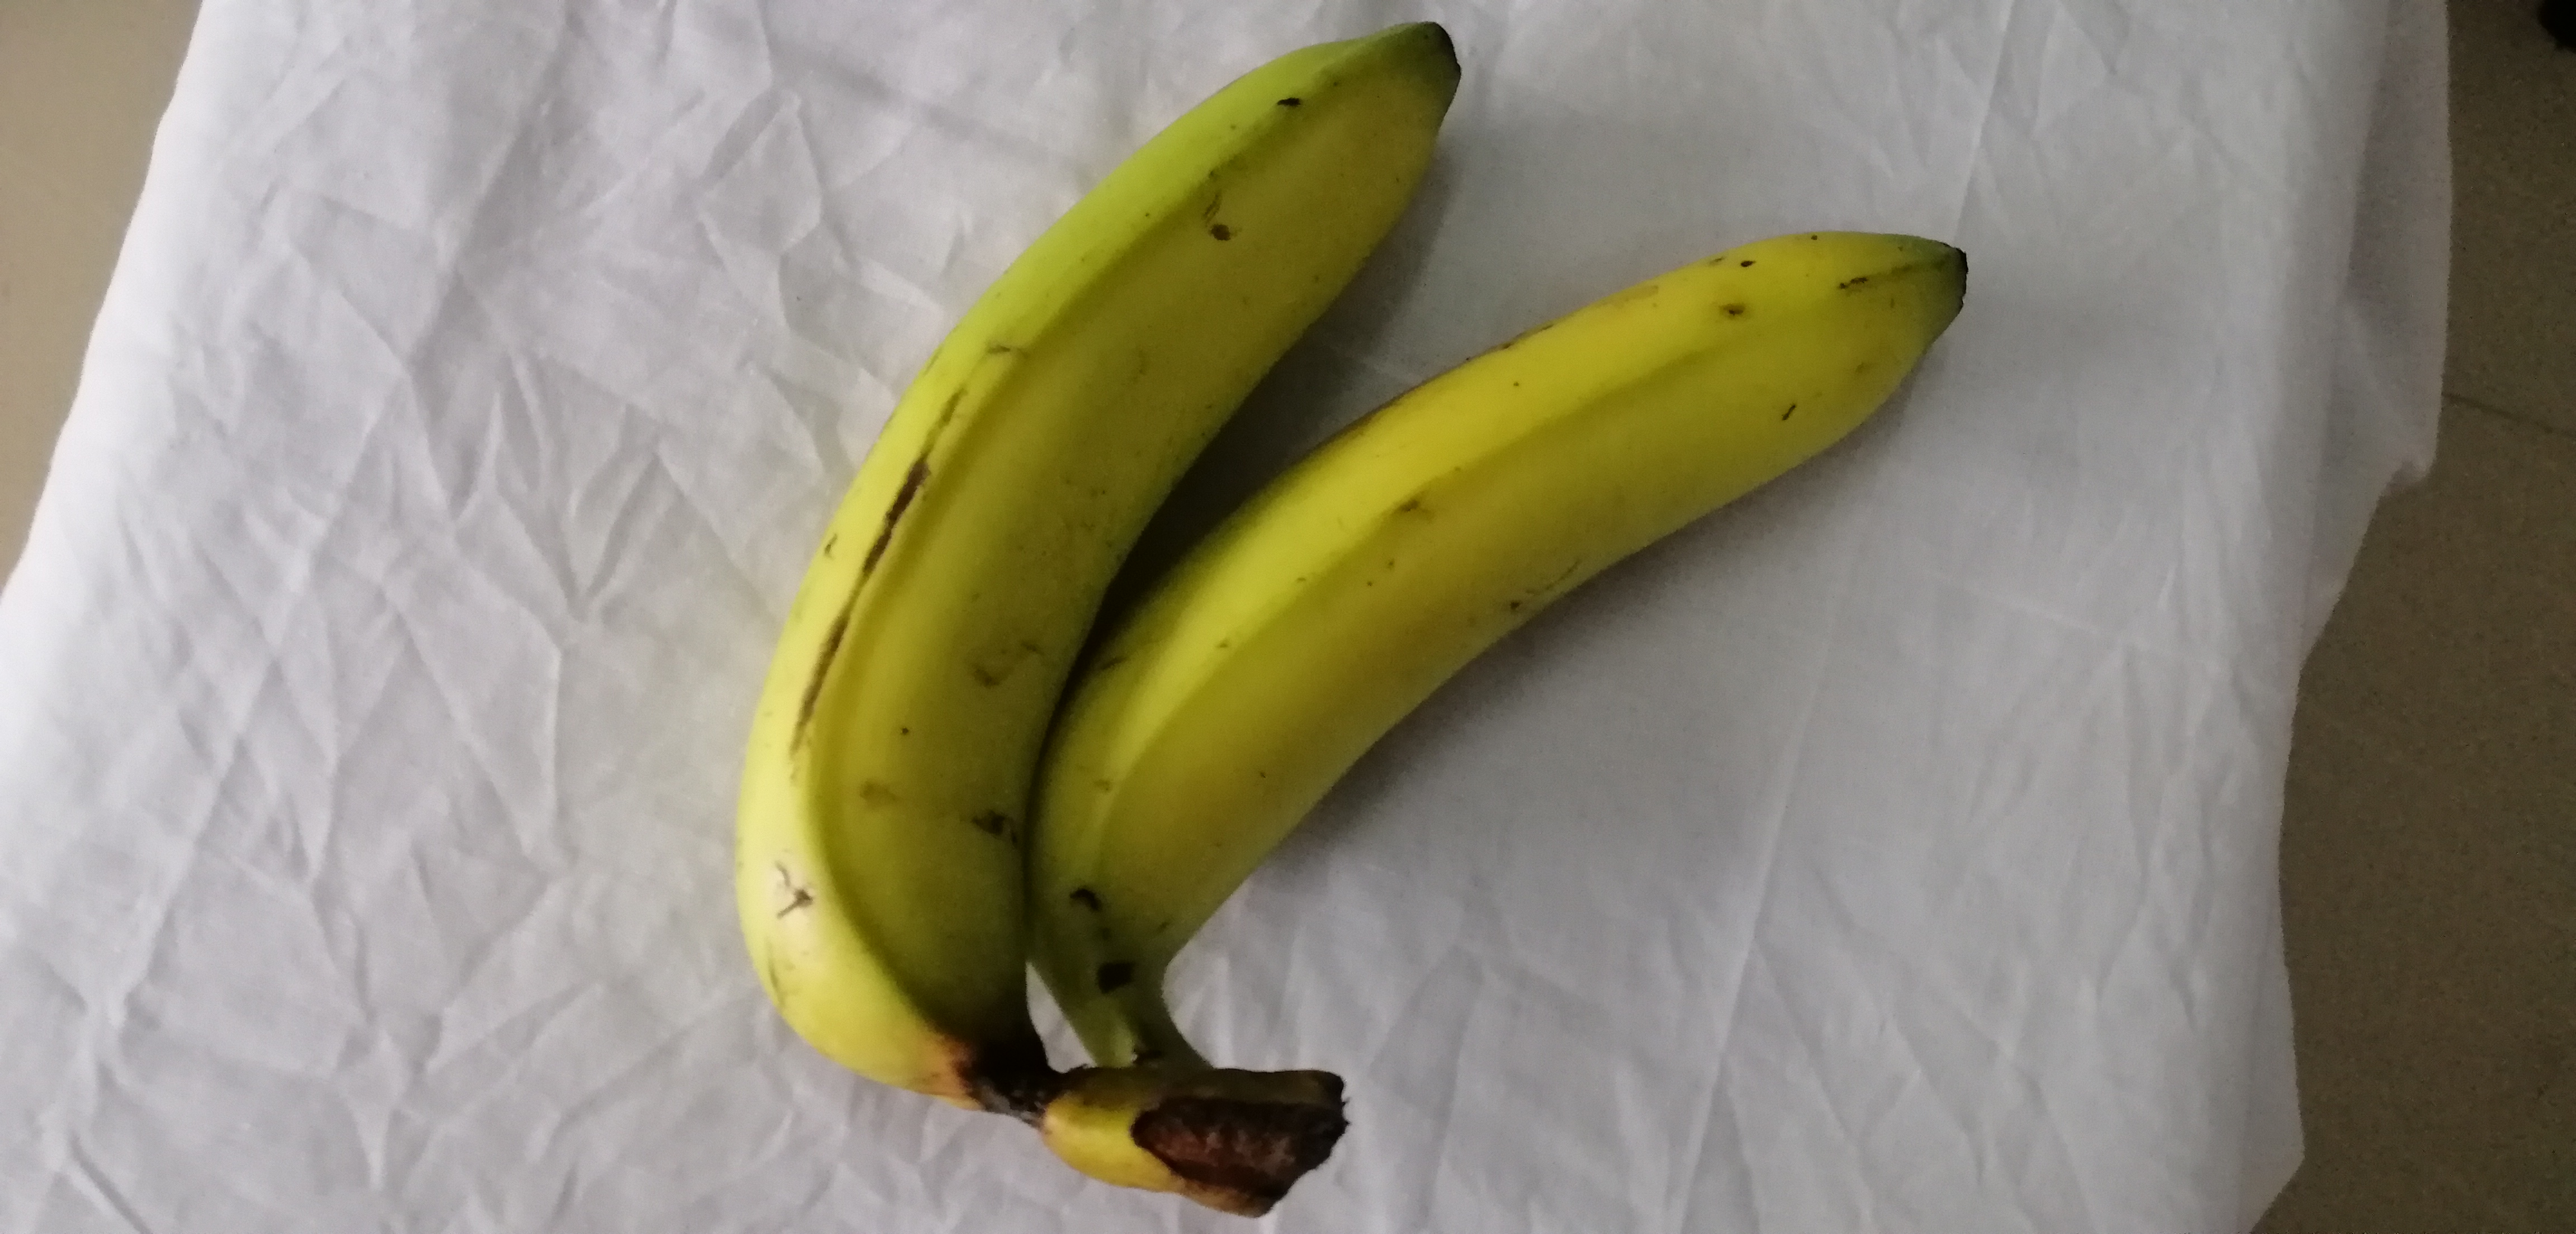banana: (1032, 223, 1983, 1204), (728, 23, 1465, 1155)
